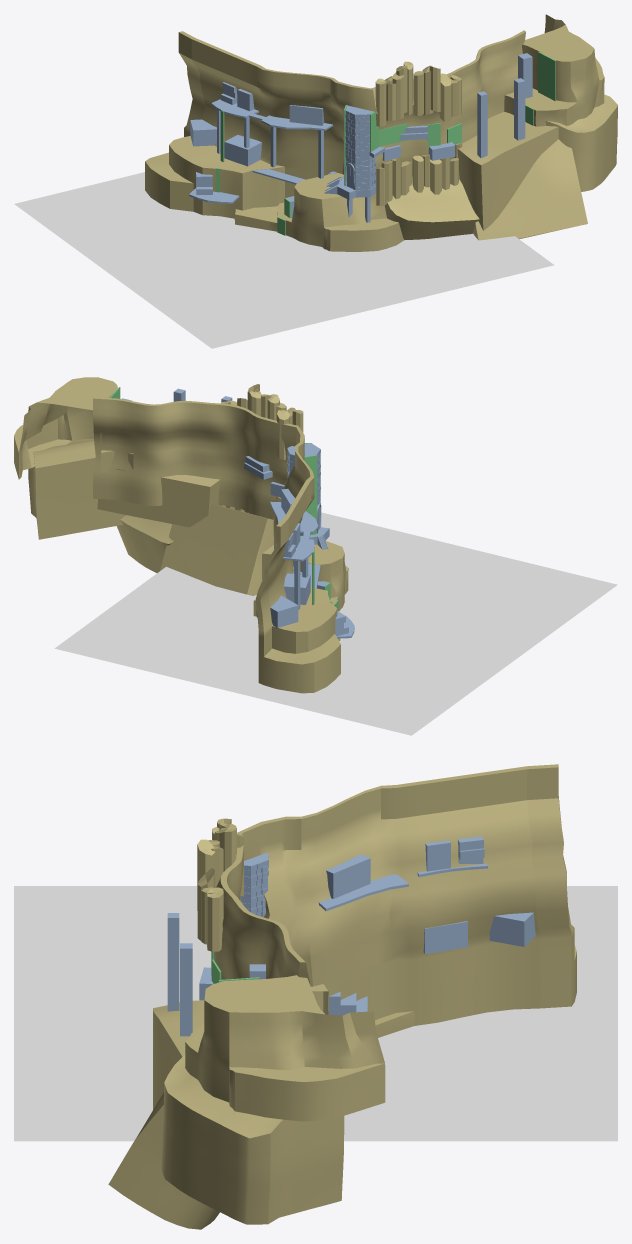
File: level design test1.fbx
The picture shows the model from 3 angles, top to bottom: view 1: azimuth 30°, elevation 25°; view 2: azimuth 150°, elevation 25°; view 3: azimuth 270°, elevation 25°; orthographic projection. The views are drawn at different scales.
Visible parts, largest first — view 1: Plane.006, Cube.001, Plane, Plane.001, Plane.005, Plane.002, Plane.004, Plane.003, Cylinder, Cube.086, Cube.033, Cube.032 (+9 smaller); view 2: Plane.006, Cube.001, Plane.004, Plane.003, Plane.002, Plane.001, Plane.005, Plane, Cube.065, Cube.077; view 3: Plane.006, Cube.001, Plane.002, Plane.003, Plane.005, Plane.001, Cube.032, Cube.033, Cube.065, Cube.031, Cylinder.007, Plane (+3 smaller).
Boxes of the visible parts, x1,y1,x2,y2 form: Plane.006: [14, 172, 554, 348]; Cube.001: [145, 30, 525, 218]; Plane: [234, 173, 403, 251]; Plane.001: [457, 112, 558, 230]; Plane.005: [473, 139, 587, 240]; Plane.002: [504, 14, 604, 126]; Plane.004: [384, 177, 479, 240]; Plane.003: [545, 94, 617, 191]; Cylinder: [345, 132, 376, 190]; Cube.086: [538, 52, 555, 100]; Cube.033: [514, 78, 525, 140]; Cube.032: [477, 91, 487, 158]; Plane.006: [54, 512, 617, 735]; Cube.001: [93, 397, 340, 693]; Plane.004: [160, 504, 273, 595]; Plane.003: [28, 439, 125, 539]; Plane.002: [14, 377, 133, 479]; Plane.001: [97, 468, 220, 527]; Plane.005: [116, 515, 173, 572]; Plane: [253, 541, 348, 640]; Cube.065: [270, 501, 318, 533]; Cube.077: [302, 455, 317, 535]; Plane.006: [14, 886, 617, 1141]; Cube.001: [214, 764, 576, 1025]; Plane.002: [185, 975, 385, 1121]; Plane.003: [161, 1054, 344, 1224]; Plane.005: [108, 1092, 219, 1229]; Plane.001: [153, 1000, 204, 1109]; Cube.032: [167, 913, 179, 1011]; Cube.033: [180, 943, 192, 1036]; Cube.065: [318, 874, 408, 911]; Cube.031: [207, 887, 223, 951]; Cylinder.007: [240, 853, 268, 898]; Plane: [311, 984, 414, 1037].
Bounding box in the file's own units: 27177 × 10925 × 19293.
